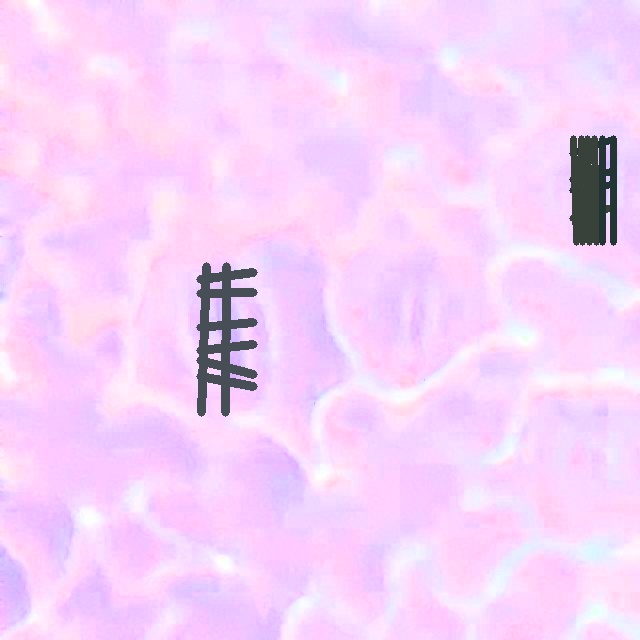open: (196, 262, 257, 416), (569, 135, 615, 244)
